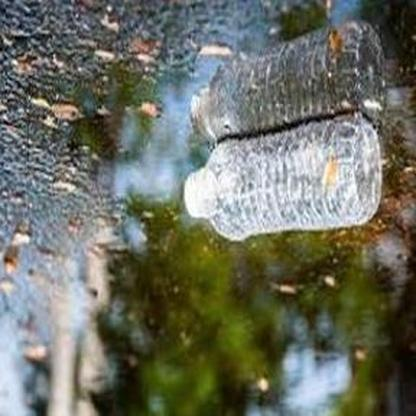plastic bottle: (185, 114, 383, 241)
